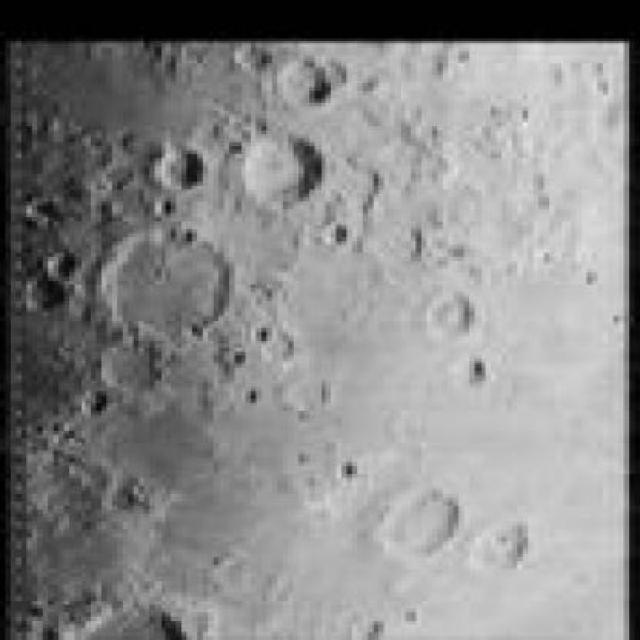crater: (108, 232, 228, 330), (376, 483, 462, 565), (238, 132, 322, 208), (151, 149, 200, 189)
